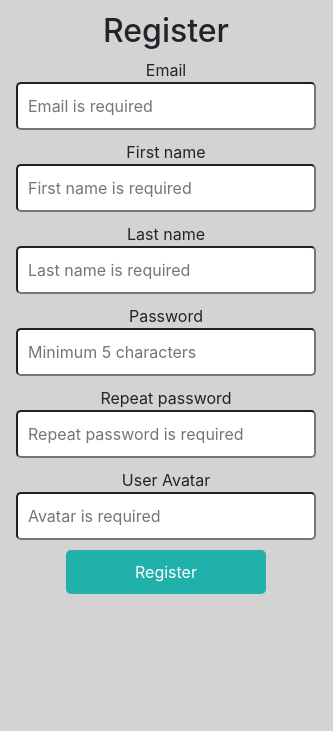
Test: testing register page › should show error paragraphs if fields filled incorectly
The image size is (333, 731).
Type "0" into the field with test id "userAvatar" at (166, 516), box x1=16 y1=492 x2=316 y2=540
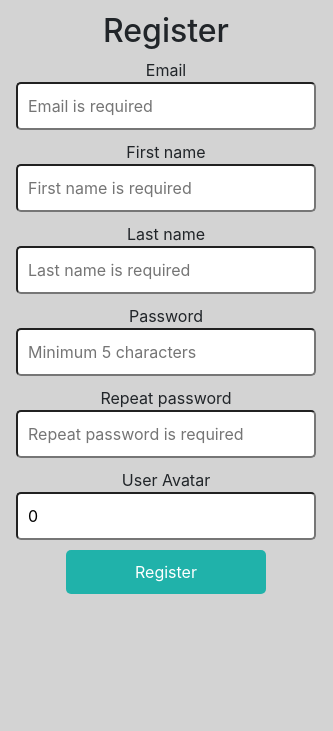
Click the button with test id "register" at (166, 572), box x1=66 y1=550 x2=266 y2=594
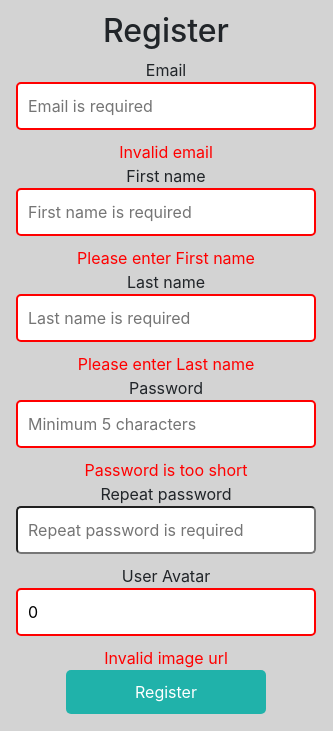
Check: the text "Please enter First name" is shown, box x1=77 y1=246 x2=255 y2=270
Check: the text "Please enter Last name" is shown, box x1=78 y1=352 x2=254 y2=376
Check: the text "Invalid email" is shown, box x1=119 y1=140 x2=213 y2=164
